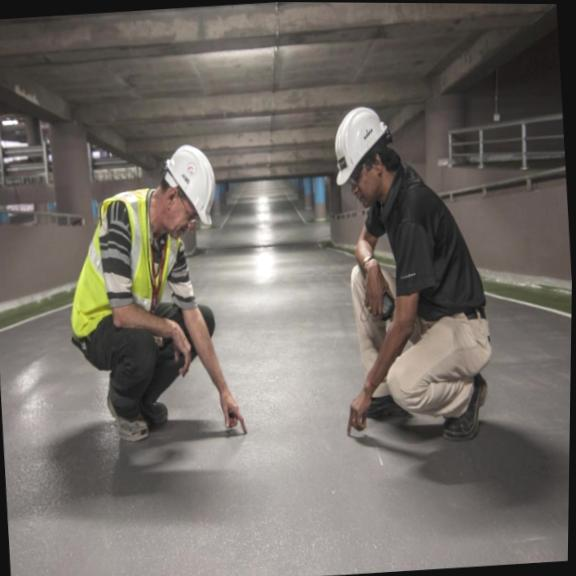no_safety_vest: (372, 158, 482, 324)
safety_vest: (62, 178, 193, 346)
